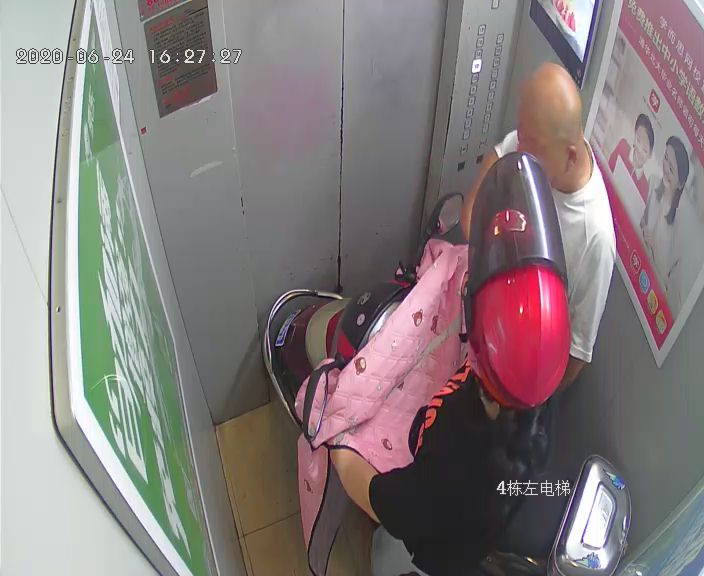Electric-bicycle: (260, 201, 638, 574)
